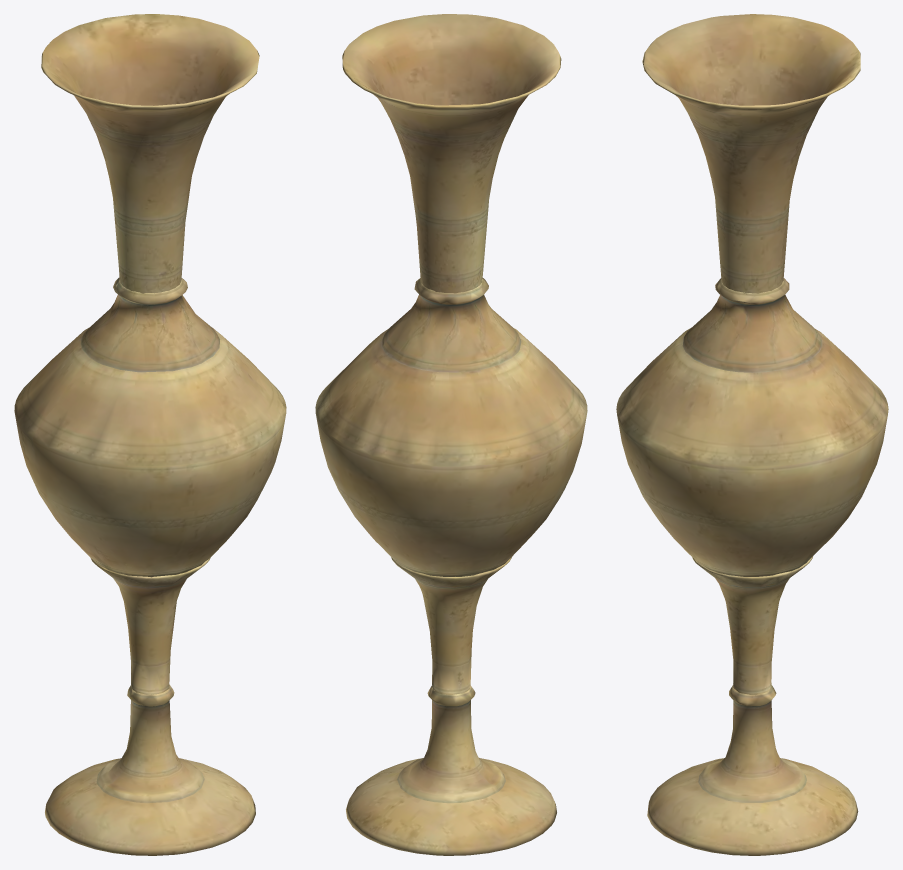
The model's file is brass_vase_01.glb.
3 renders of one model, left to right at view 1: azimuth 30°, elevation 25°; view 2: azimuth 150°, elevation 25°; view 3: azimuth 270°, elevation 25°, orthographic.
Parts seen in each view (by area): view 1: brass_vase_01; view 2: brass_vase_01; view 3: brass_vase_01.
Boxes of the visible parts, x1,y1,x2,y2 form: brass_vase_01: (14,14,286,855); brass_vase_01: (315,14,587,855); brass_vase_01: (616,14,888,855).
Size of the model in its own units: 0.2272 by 0.6925 by 0.2272.
1 material, 1 textured.
